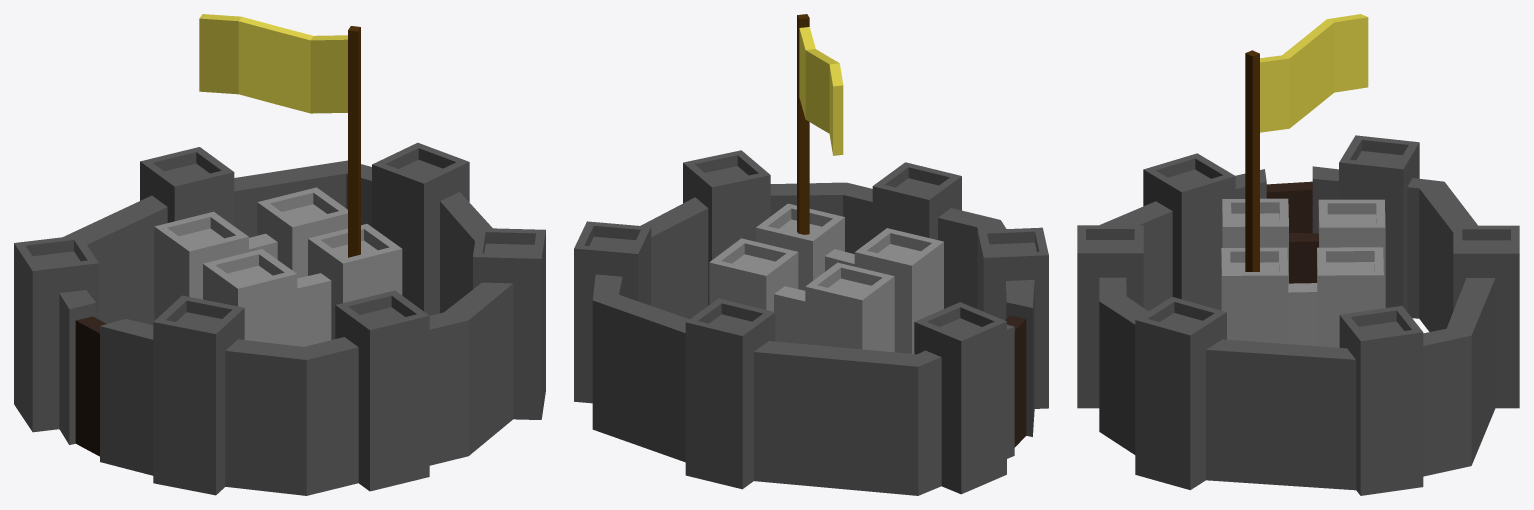
Rendered from SM_TileP2Castle.fbx.
The picture shows the model from 3 angles, left to right: view 1: azimuth 30°, elevation 25°; view 2: azimuth 150°, elevation 25°; view 3: azimuth 270°, elevation 25°; orthographic projection. The views are drawn at different scales.
Parts seen in each view (by area): view 1: TileP2Castle, TileP2CastleFlag; view 2: TileP2Castle, TileP2CastleFlag; view 3: TileP2Castle, TileP2CastleFlag.
Part boxes in pixels (x1=…): TileP2Castle: x1=14, y1=142, x2=545, y2=495; TileP2CastleFlag: x1=199, y1=14, x2=360, y2=257; TileP2Castle: x1=574, y1=150, x2=1048, y2=495; TileP2CastleFlag: x1=797, y1=14, x2=843, y2=234; TileP2Castle: x1=1077, y1=135, x2=1519, y2=495; TileP2CastleFlag: x1=1245, y1=14, x2=1368, y2=271.
Bounding box in the file's own units: 393 × 322 × 357.
